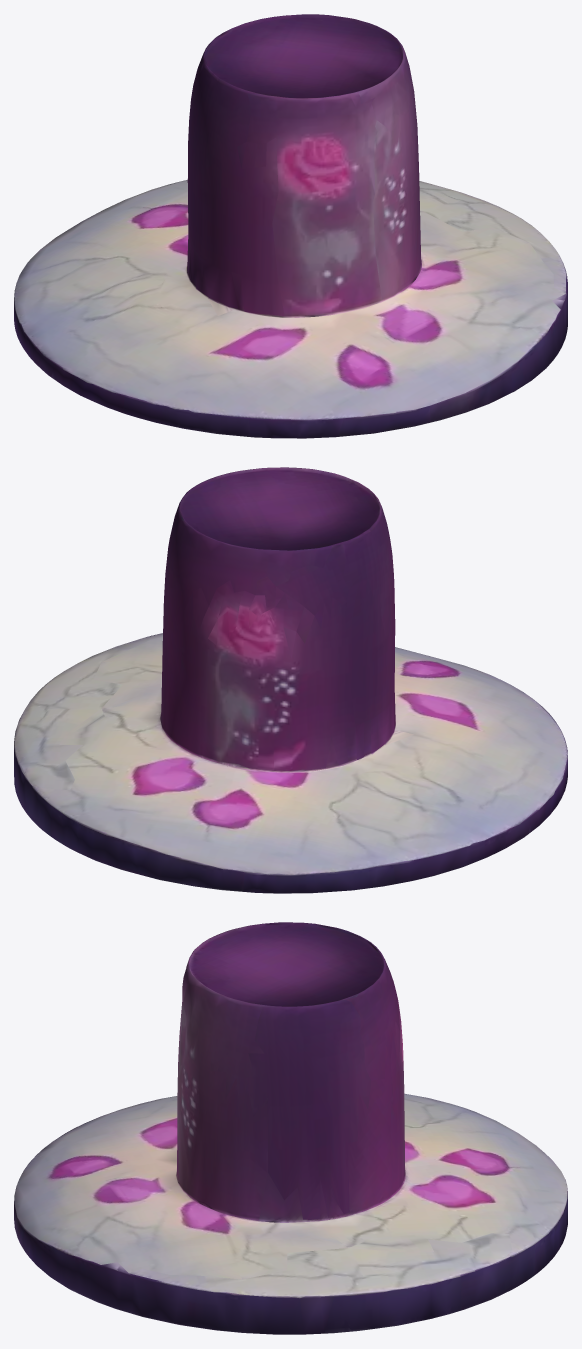
Rendered from rose.glb.
3 views of the same model, one above another, from view 1: azimuth 30°, elevation 25°; view 2: azimuth 150°, elevation 25°; view 3: azimuth 270°, elevation 25° (orthographic).
Parts seen in each view (by area): view 1: LOD0; view 2: LOD0; view 3: LOD0.
Part boxes in pixels (x1=…): LOD0: x1=14, y1=14, x2=567, y2=438; LOD0: x1=14, y1=467, x2=567, y2=893; LOD0: x1=14, y1=922, x2=567, y2=1334.
Size of what is drawn, in the model's own units: 1.05 by 0.553 by 1.06.
1 material, 1 textured.
